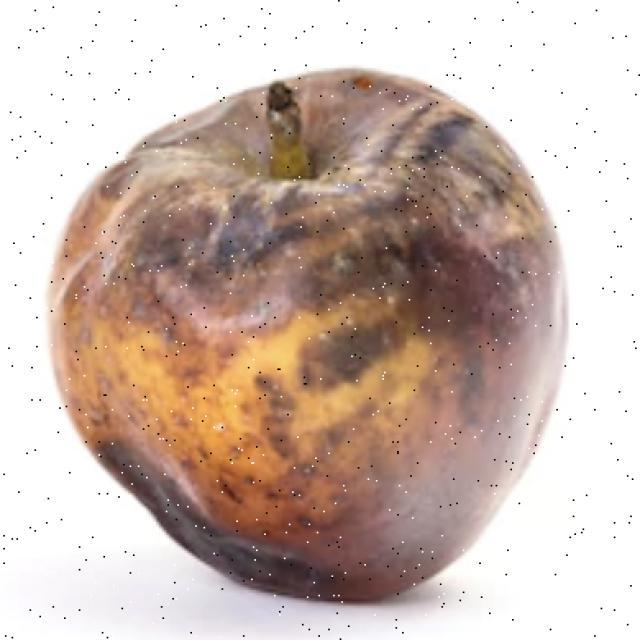Rotten: (46, 95, 572, 602)
